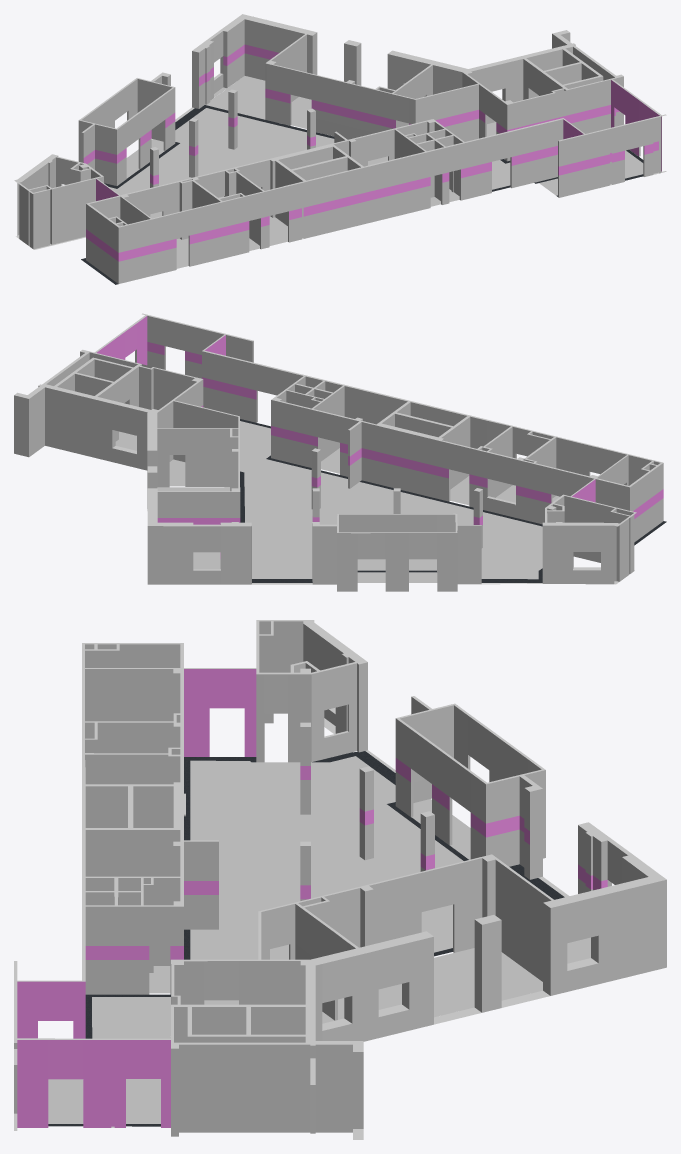
File: HallPart_1stFloor.fbx
The picture shows the model from 3 angles, top to bottom: view 1: azimuth 30°, elevation 25°; view 2: azimuth 150°, elevation 25°; view 3: azimuth 270°, elevation 25°; orthographic projection. The views are drawn at different scales.
Visible parts, largest first — view 1: Plane; view 2: Plane; view 3: Plane.
Part boxes in pixels (bbox=[...]): Plane: bbox=[14, 14, 666, 284]; Plane: bbox=[14, 313, 666, 591]; Plane: bbox=[14, 620, 666, 1139].
Size of the model in its own units: 4432 by 421 by 2831.
